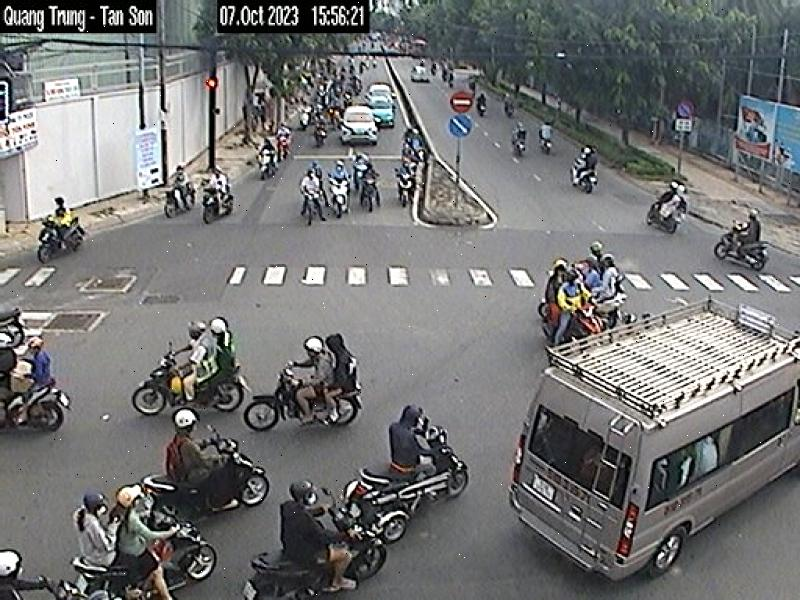car: (511, 298, 800, 584), (338, 108, 380, 148), (370, 106, 396, 129)
motorcycle: (227, 485, 412, 600), (28, 491, 207, 600), (88, 428, 291, 517), (240, 352, 416, 450), (118, 334, 270, 419), (342, 428, 481, 510), (12, 379, 70, 433), (577, 172, 598, 194)
